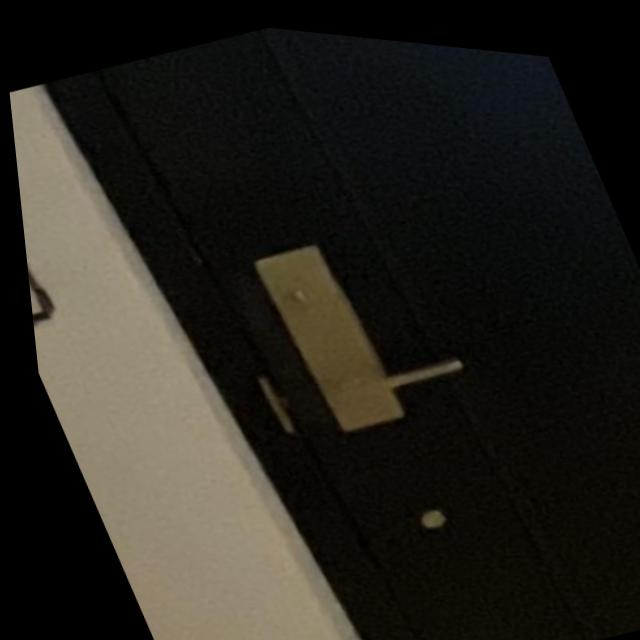door_handle: (280, 307, 486, 436)
